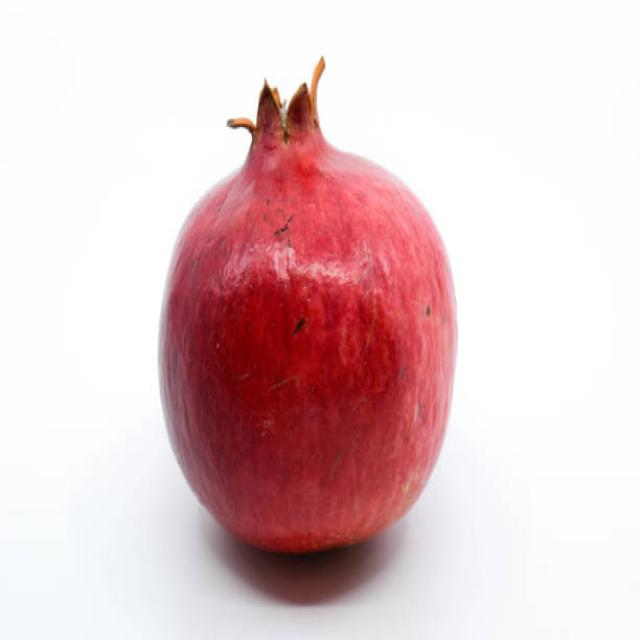Ripe: (150, 63, 462, 556)
